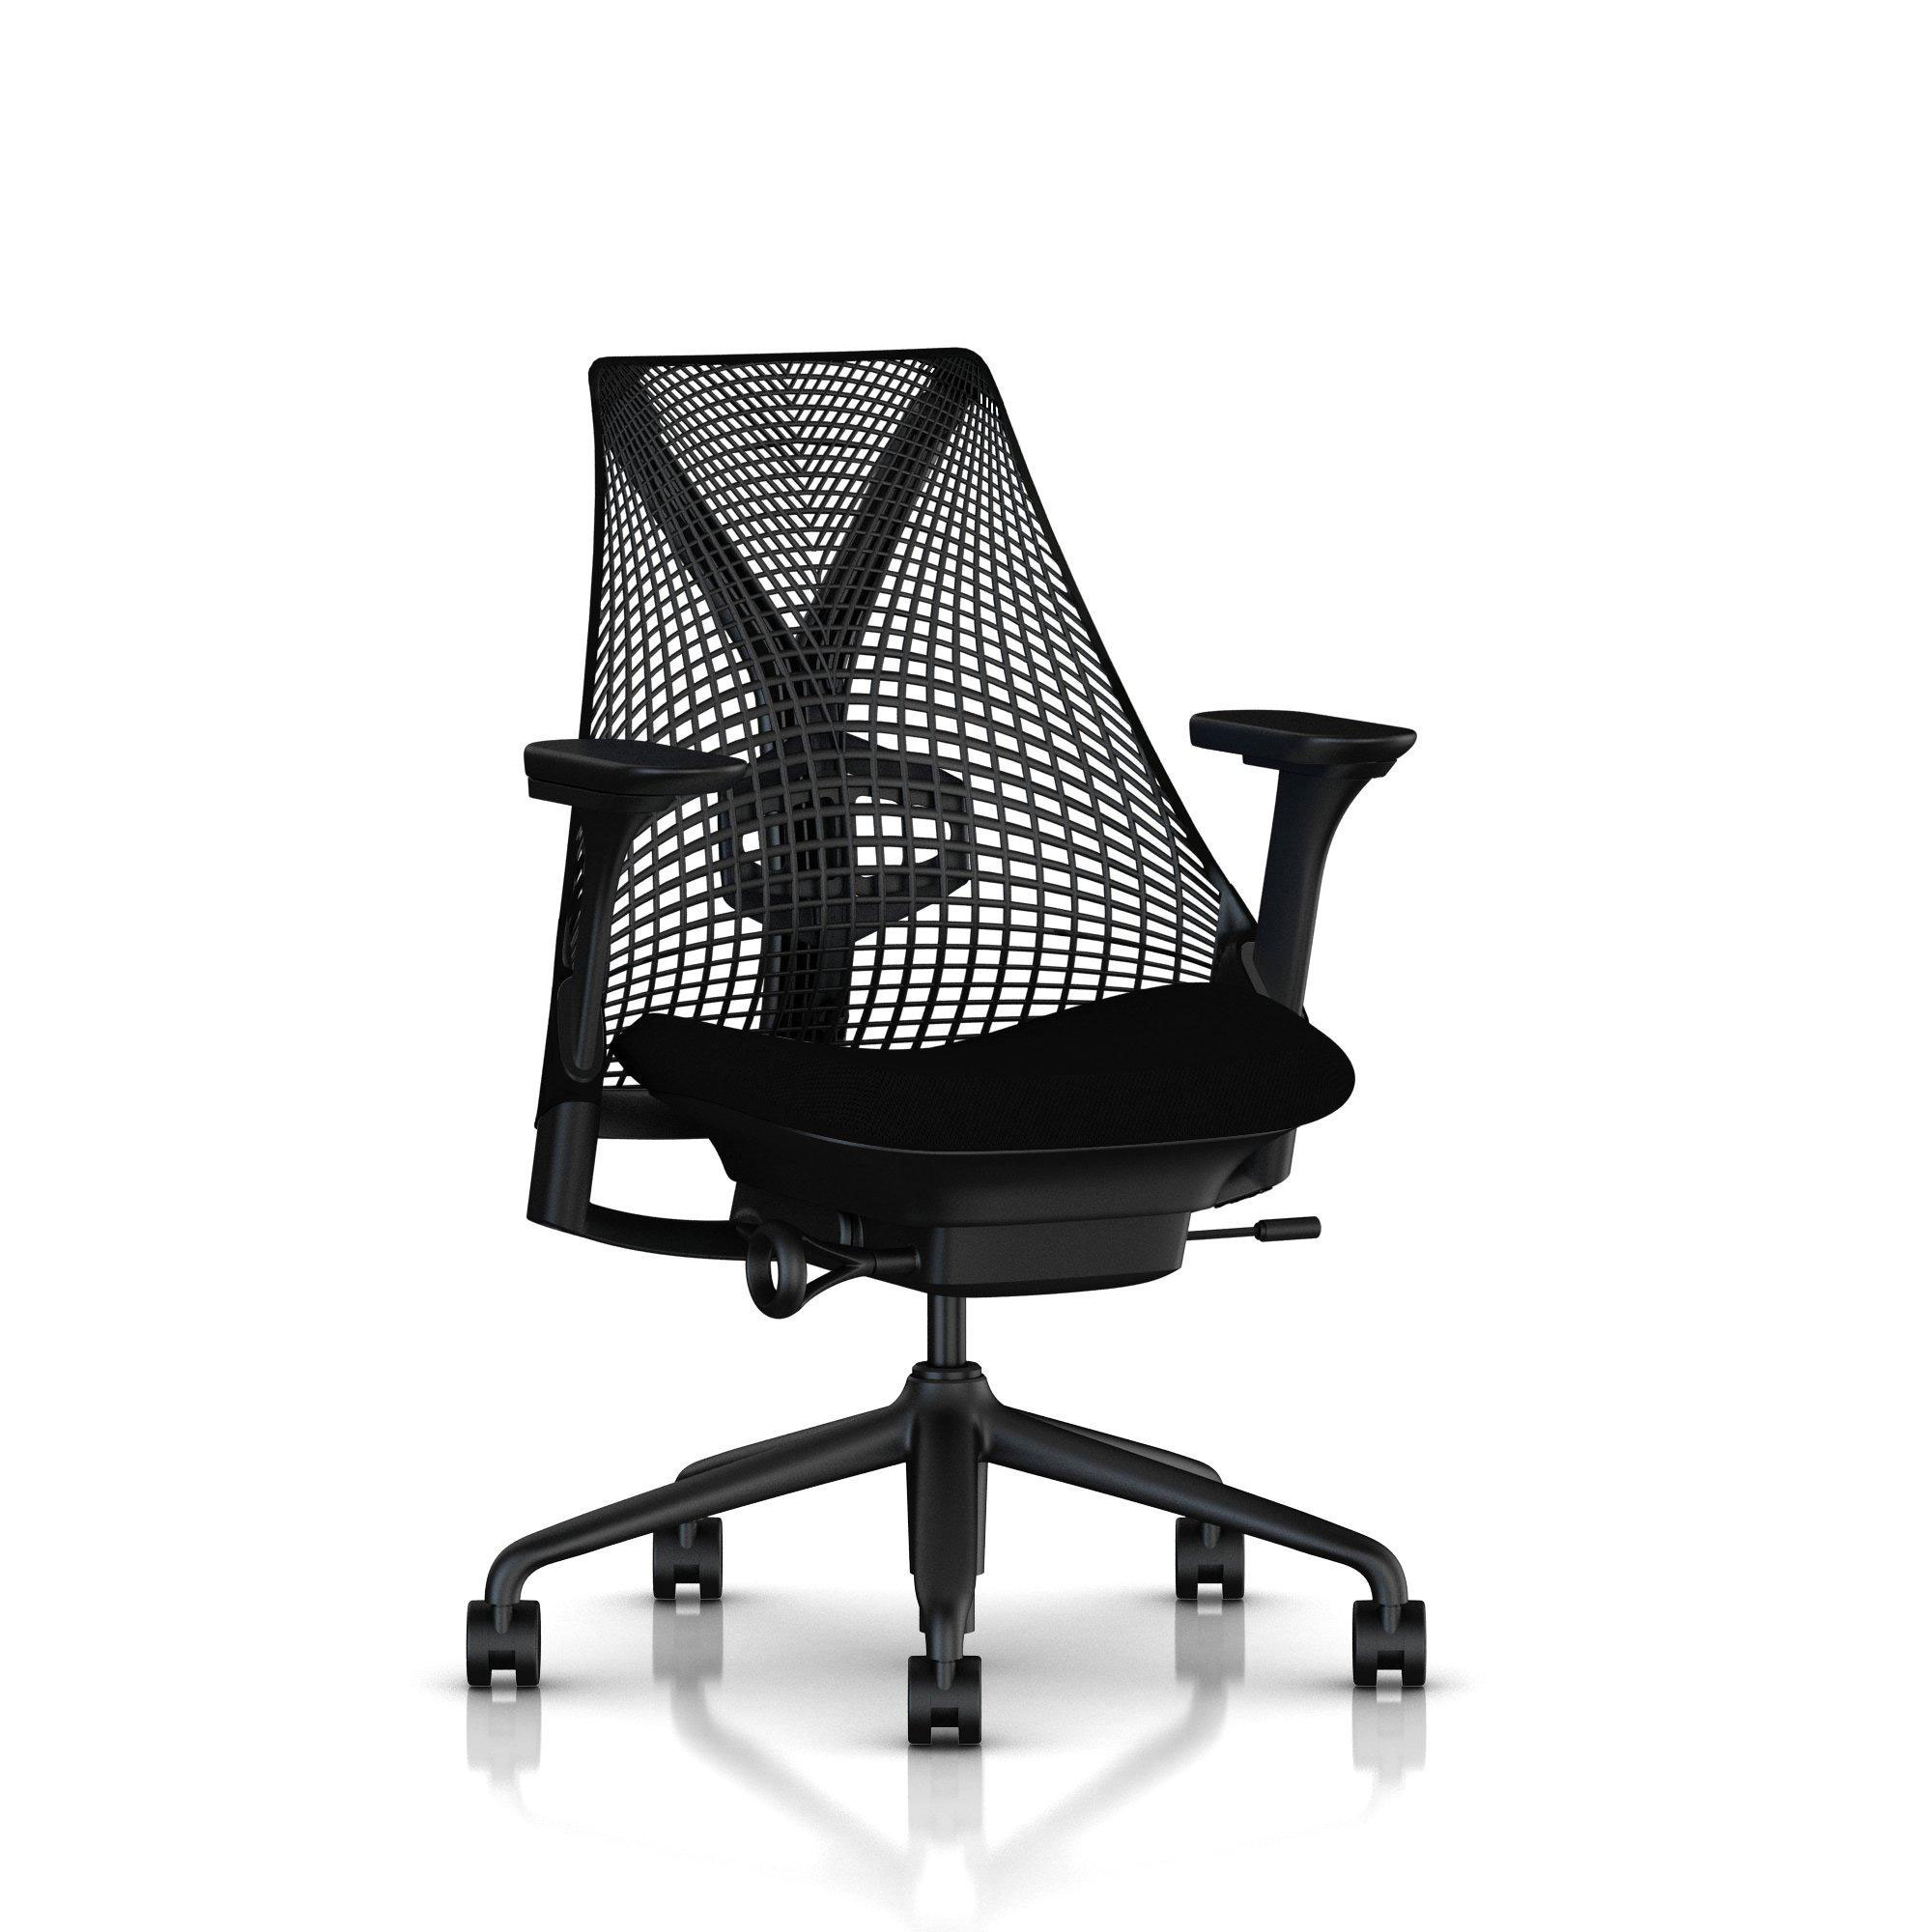chairs: (460, 331, 1461, 1714)
